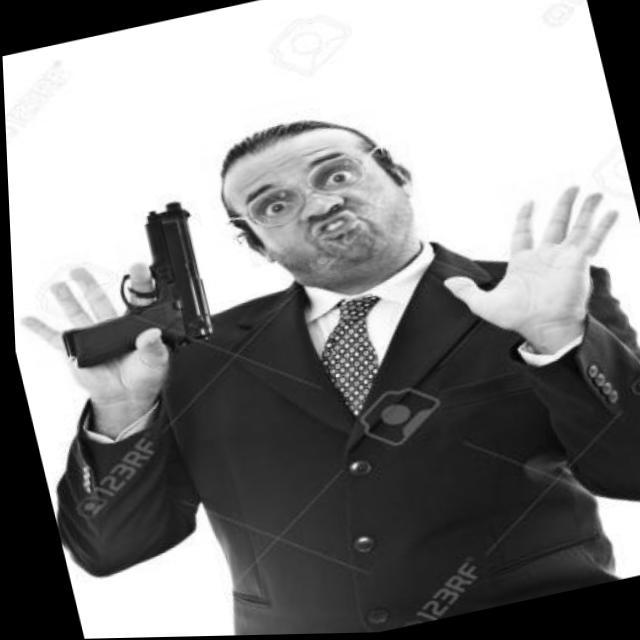weapon: (17, 187, 236, 390)
